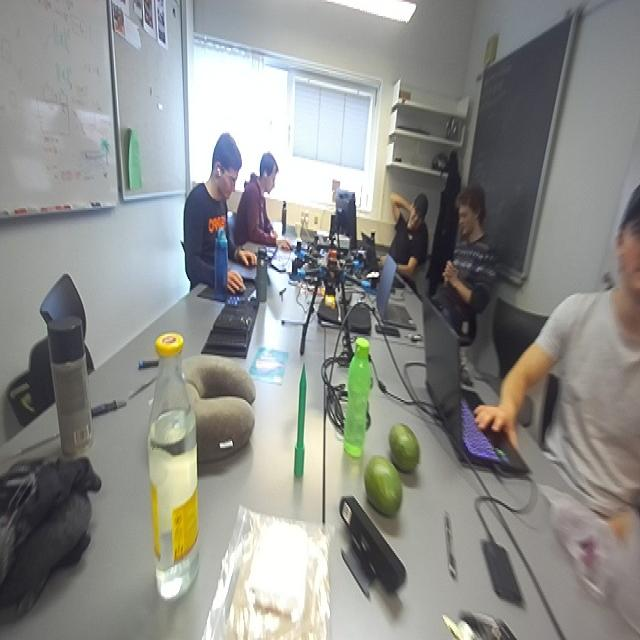probe: (292, 363, 306, 478)
